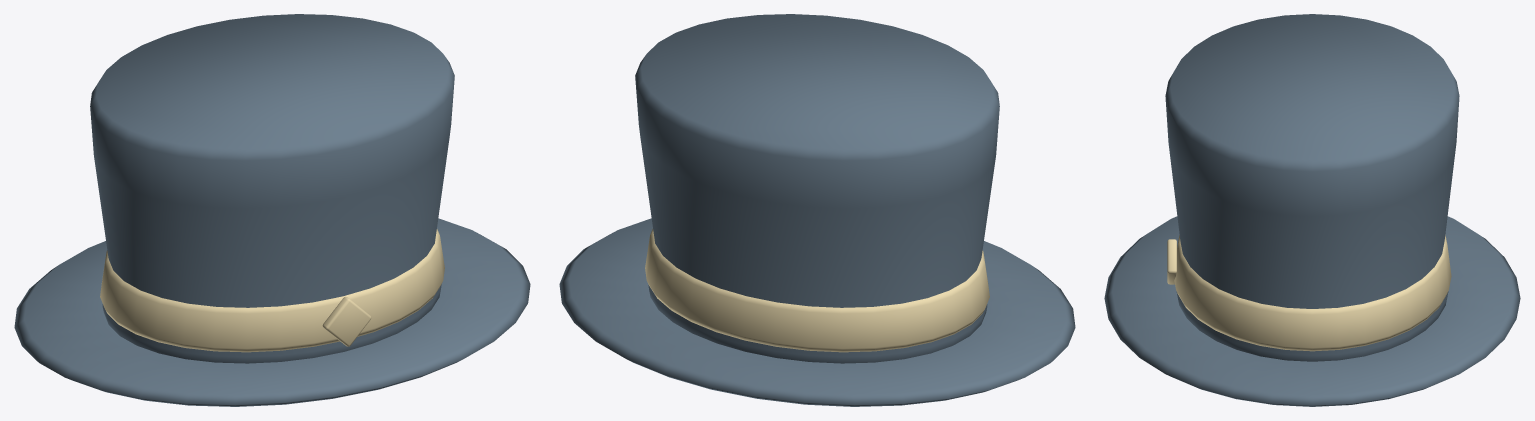
The model's file is giftborne-collectible-top-hat-v1.glb.
The picture shows the model from 3 angles, left to right: view 1: azimuth 30°, elevation 25°; view 2: azimuth 150°, elevation 25°; view 3: azimuth 270°, elevation 25°; orthographic projection. The views are drawn at different scales.
Parts seen in each view (by area): view 1: GiftborneCollectibleTopHat; view 2: GiftborneCollectibleTopHat; view 3: GiftborneCollectibleTopHat.
Part boxes in pixels (<box>): GiftborneCollectibleTopHat: <box>14,14,530,406</box>; GiftborneCollectibleTopHat: <box>559,14,1075,406</box>; GiftborneCollectibleTopHat: <box>1104,14,1520,406</box>.
Size of the model in its own units: 0.416 by 0.198 by 0.3411.
